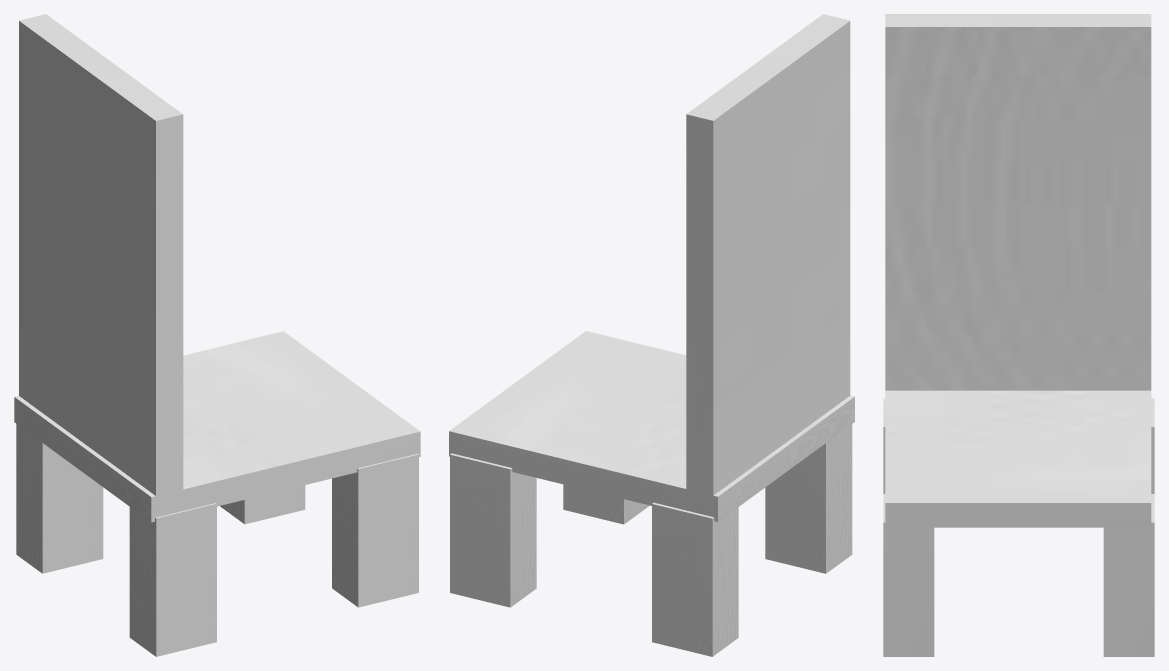
Rendered from chair.obj.
3 renders of one model, left to right at view 1: azimuth 30°, elevation 25°; view 2: azimuth 150°, elevation 25°; view 3: azimuth 270°, elevation 25°, orthographic. The views are drawn at different scales.
Parts seen in each view (by area): view 1: Cube.005, Cube.004, Cube, Cube.003, Cube.001, Cube.002; view 2: Cube.005, Cube.004, Cube.001, Cube.002, Cube, Cube.003; view 3: Cube.005, Cube.004, Cube.002, Cube.003.
Boxes of the visible parts, bbox=[...] form: Cube.005: bbox=[19, 14, 183, 502]; Cube.004: bbox=[14, 331, 420, 522]; Cube: bbox=[129, 503, 216, 656]; Cube.003: bbox=[332, 453, 418, 607]; Cube.001: bbox=[16, 424, 103, 573]; Cube.002: bbox=[220, 485, 305, 524]; Cube.005: bbox=[686, 14, 850, 503]; Cube.004: bbox=[449, 331, 854, 521]; Cube.001: bbox=[652, 502, 738, 656]; Cube.002: bbox=[450, 453, 536, 607]; Cube: bbox=[765, 424, 852, 573]; Cube.003: bbox=[563, 484, 649, 524]; Cube.005: bbox=[885, 14, 1151, 390]; Cube.004: bbox=[885, 390, 1151, 527]; Cube.002: bbox=[1103, 494, 1154, 656]; Cube.003: bbox=[883, 494, 934, 656].
Bounding box in the file's own units: 4.07 × 7.73 × 3.67.
